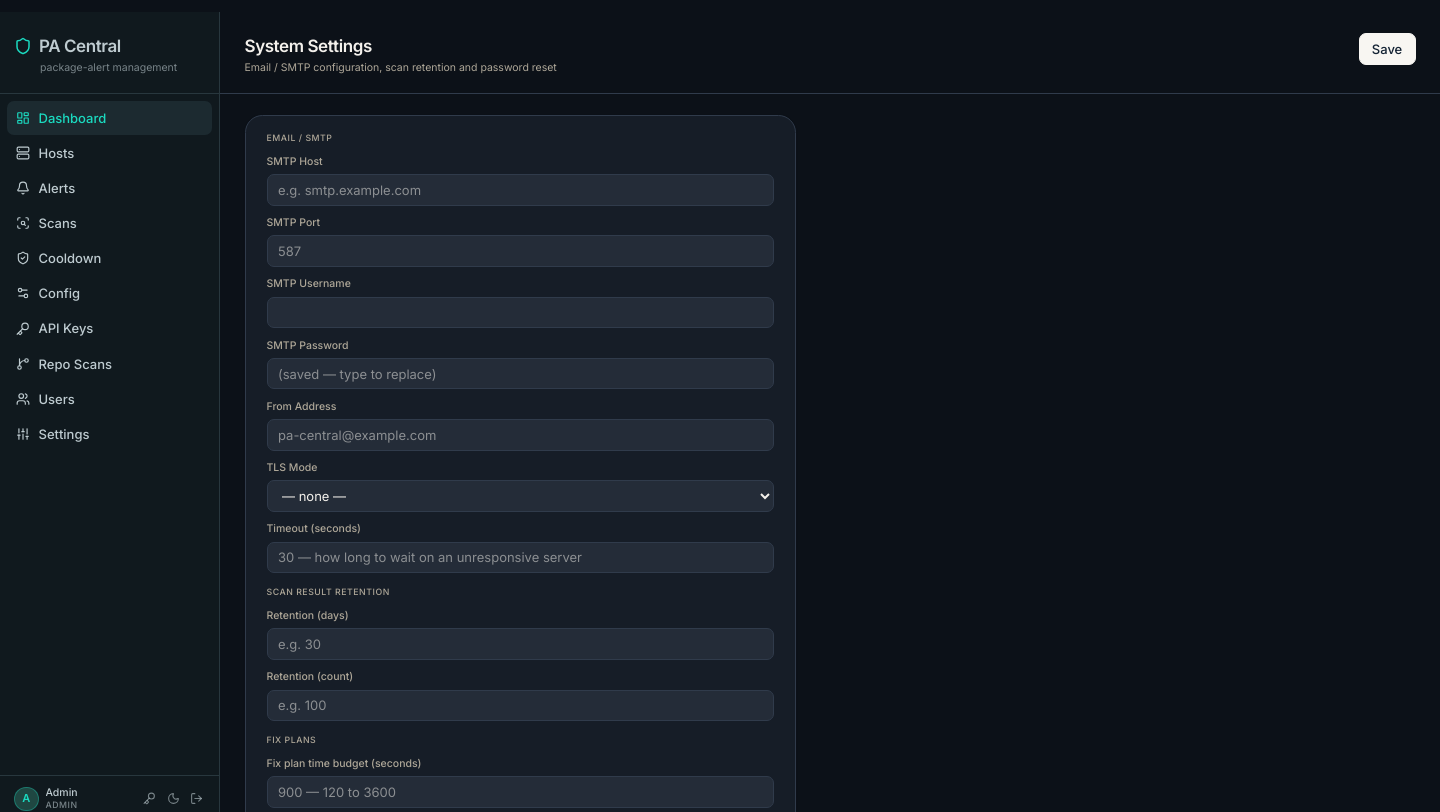
SystemSettings — an unsaved edit to a dependency field cannot act on stale readiness › keeps the checkbox disabled while a fix to a missing field is unsaved, even though the field now looks correct
This screenshot has width=1440, height=812.
Type "smtp.example.com" into the field labelled "SMTP Host" at {"x": 520, "y": 190}, box [266,174,774,206]
(page scrolled)
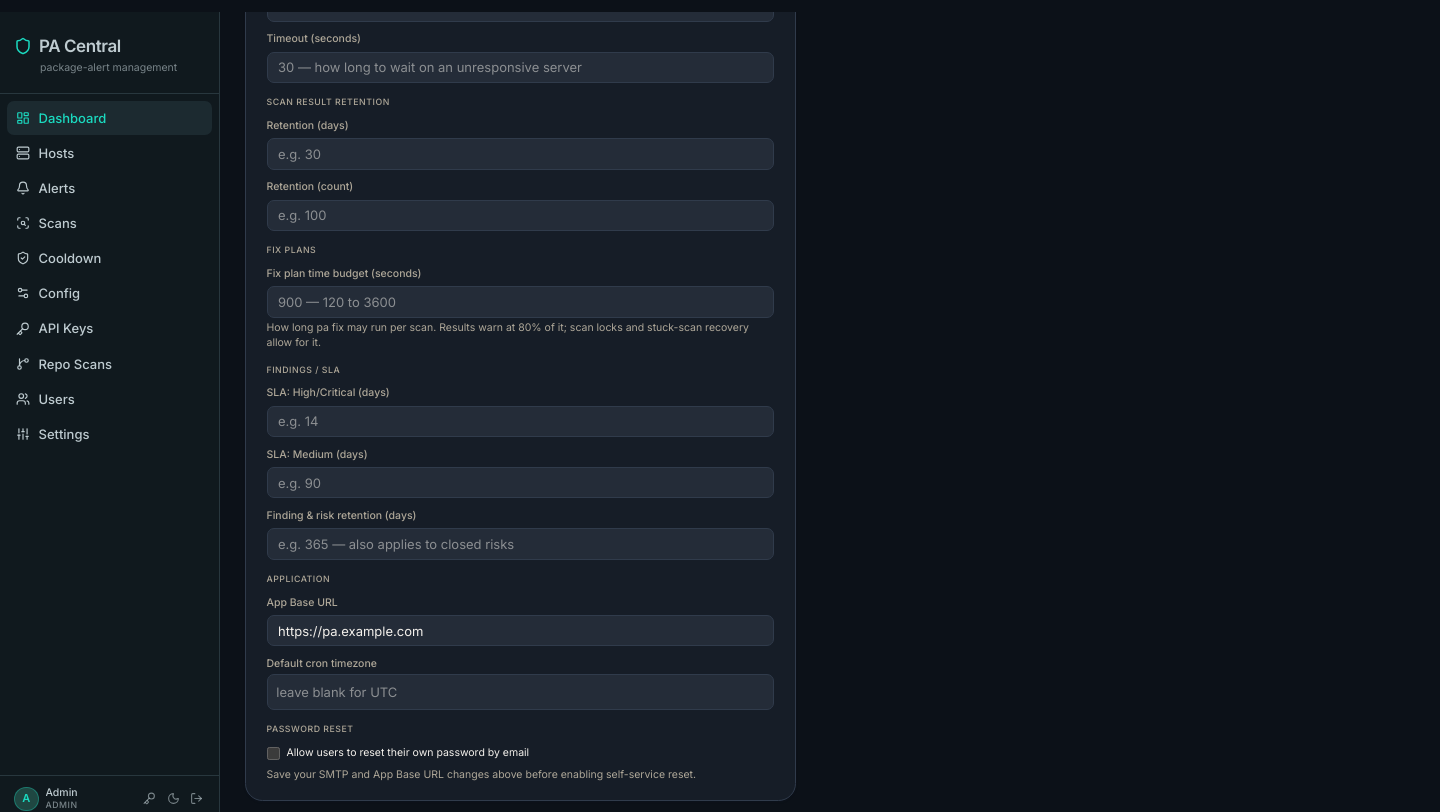
Expected: the checkbox labelled "Allow users to reset their own password by email" is disabled, [266,747,280,760]
Expected: the text "Save your SMTP and App Base URL changes" is shown, [266,768,696,781]
